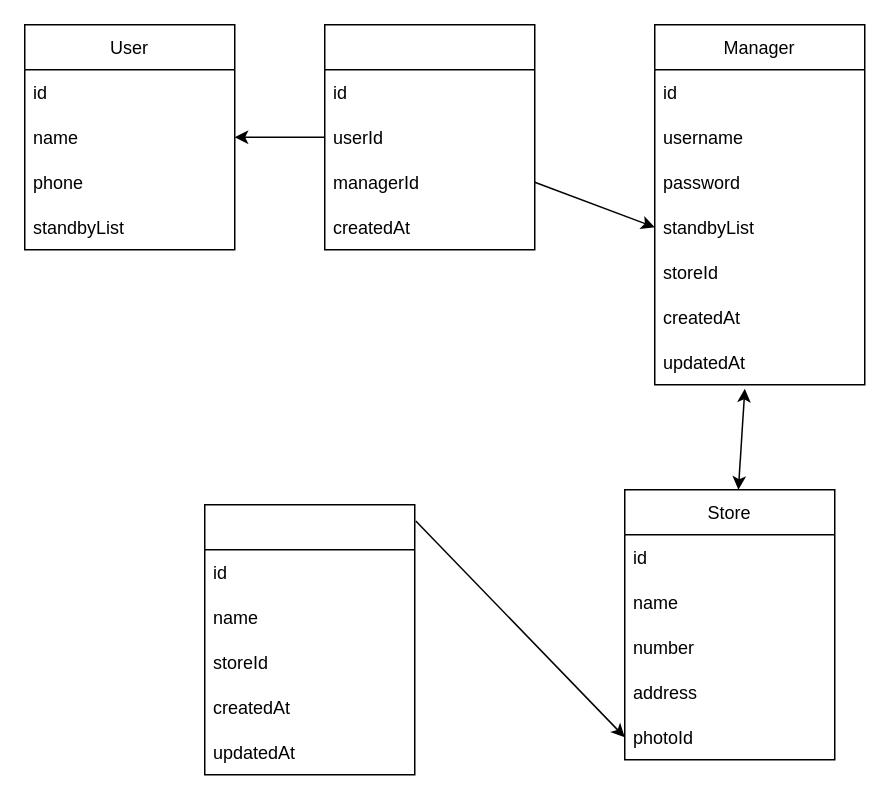
The diagram is 890 pixels wide and 800 high, and some of its shapes have lost their labels. The box of each missing label's shape, as (x1, y1, x2, y2) in pixels:
Photo: (203, 503, 415, 775)
Standby: (323, 23, 535, 250)
